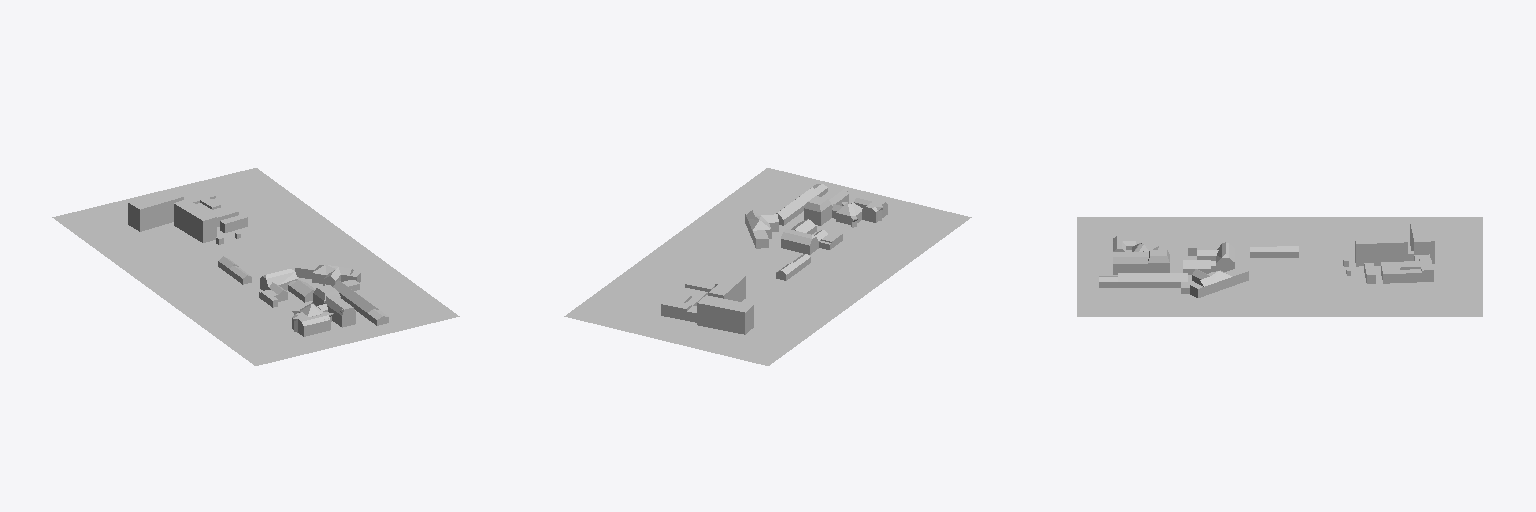
3 renders of one model, left to right at view 1: azimuth 30°, elevation 25°; view 2: azimuth 150°, elevation 25°; view 3: azimuth 270°, elevation 25°, orthographic.
Parts seen in each view (by area): view 1: ground, school_model; view 2: ground, school_model; view 3: ground, school_model.
Boxes of the visible parts, x1,y1,x2,y2 form: ground: [52, 168, 459, 365]; school_model: [128, 190, 388, 336]; ground: [564, 168, 971, 365]; school_model: [661, 184, 887, 334]; ground: [1077, 217, 1482, 316]; school_model: [1099, 219, 1434, 297].
Size of the model in its own units: 11.38 by 1.2 by 19.62.